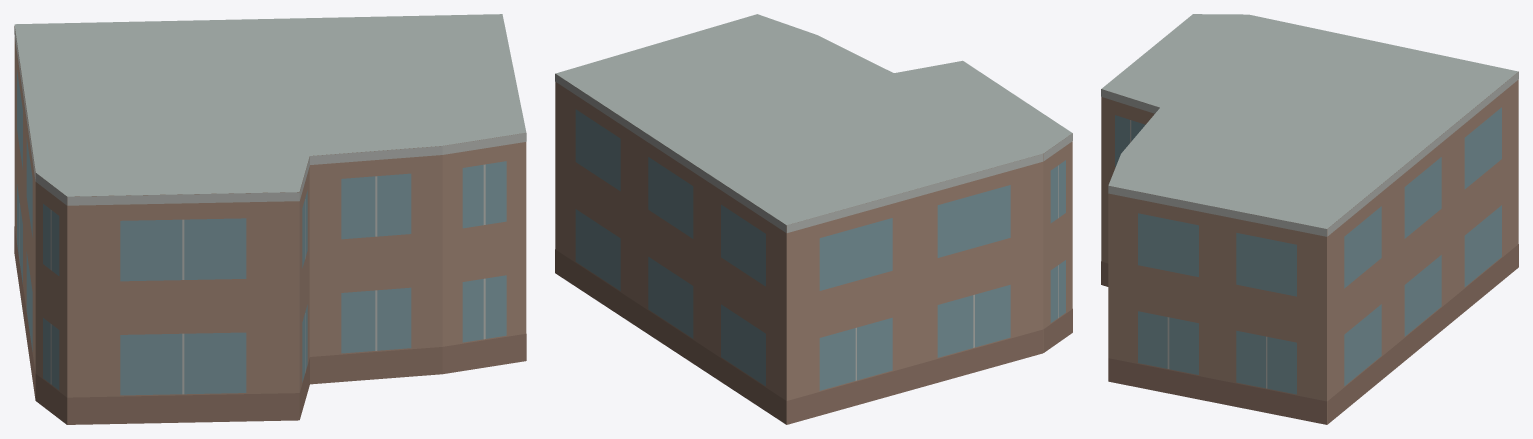
File: survey-upis-32510537.glb
The picture shows the model from 3 angles, left to right: view 1: azimuth 30°, elevation 25°; view 2: azimuth 150°, elevation 25°; view 3: azimuth 270°, elevation 25°; orthographic projection. The views are drawn at different scales.
Visible parts, largest first — view 1: survey-upis-32510537.tmp; view 2: survey-upis-32510537.tmp; view 3: survey-upis-32510537.tmp.
Boxes of the visible parts, x1=… form: survey-upis-32510537.tmp: x1=14, y1=14, x2=526, y2=424; survey-upis-32510537.tmp: x1=555, y1=14, x2=1072, y2=424; survey-upis-32510537.tmp: x1=1101, y1=14, x2=1518, y2=424.
Size of the model in its own units: 14.37 by 6.1 by 11.8.
